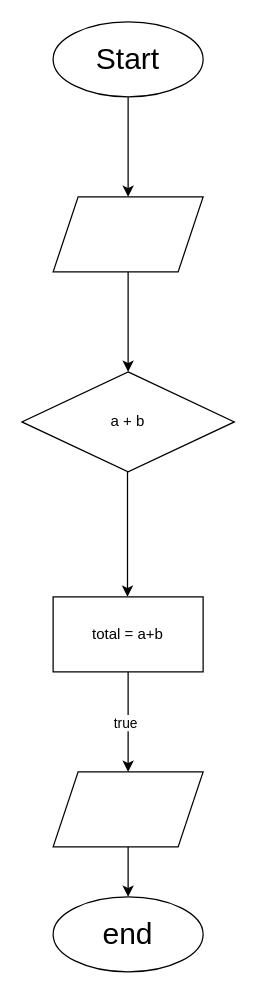
The diagram is 256 pixels wide and 994 high, and some of its shapes have lost their labels. The centre of each missing label's shape, as x and y in pixels:
"hợp lệ" goes at (127,809).
"nhập ab total" goes at (127,234).
